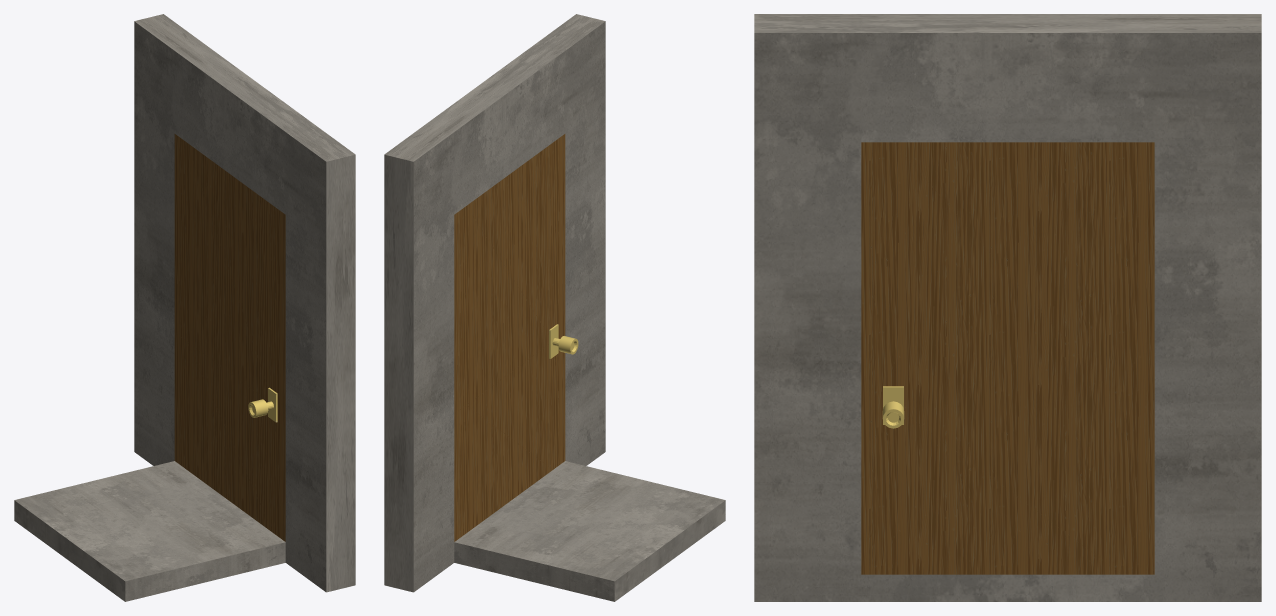
The model's file is Modular_Door.fbx.
The picture shows the model from 3 angles, left to right: view 1: azimuth 30°, elevation 25°; view 2: azimuth 150°, elevation 25°; view 3: azimuth 270°, elevation 25°; orthographic projection. The views are drawn at different scales.
Visible parts, largest first — view 1: Modular_doorway, Modular_door; view 2: Modular_doorway, Modular_door; view 3: Modular_doorway, Modular_door.
Part boxes in pixels (<box>): Modular_doorway: <box>14,14,355,601</box>; Modular_door: <box>174,134,285,541</box>; Modular_doorway: <box>384,14,725,601</box>; Modular_door: <box>454,134,565,541</box>; Modular_doorway: <box>754,14,1261,601</box>; Modular_door: <box>861,142,1154,574</box>.
Bounding box in the file's own units: 190 × 371 × 300.
